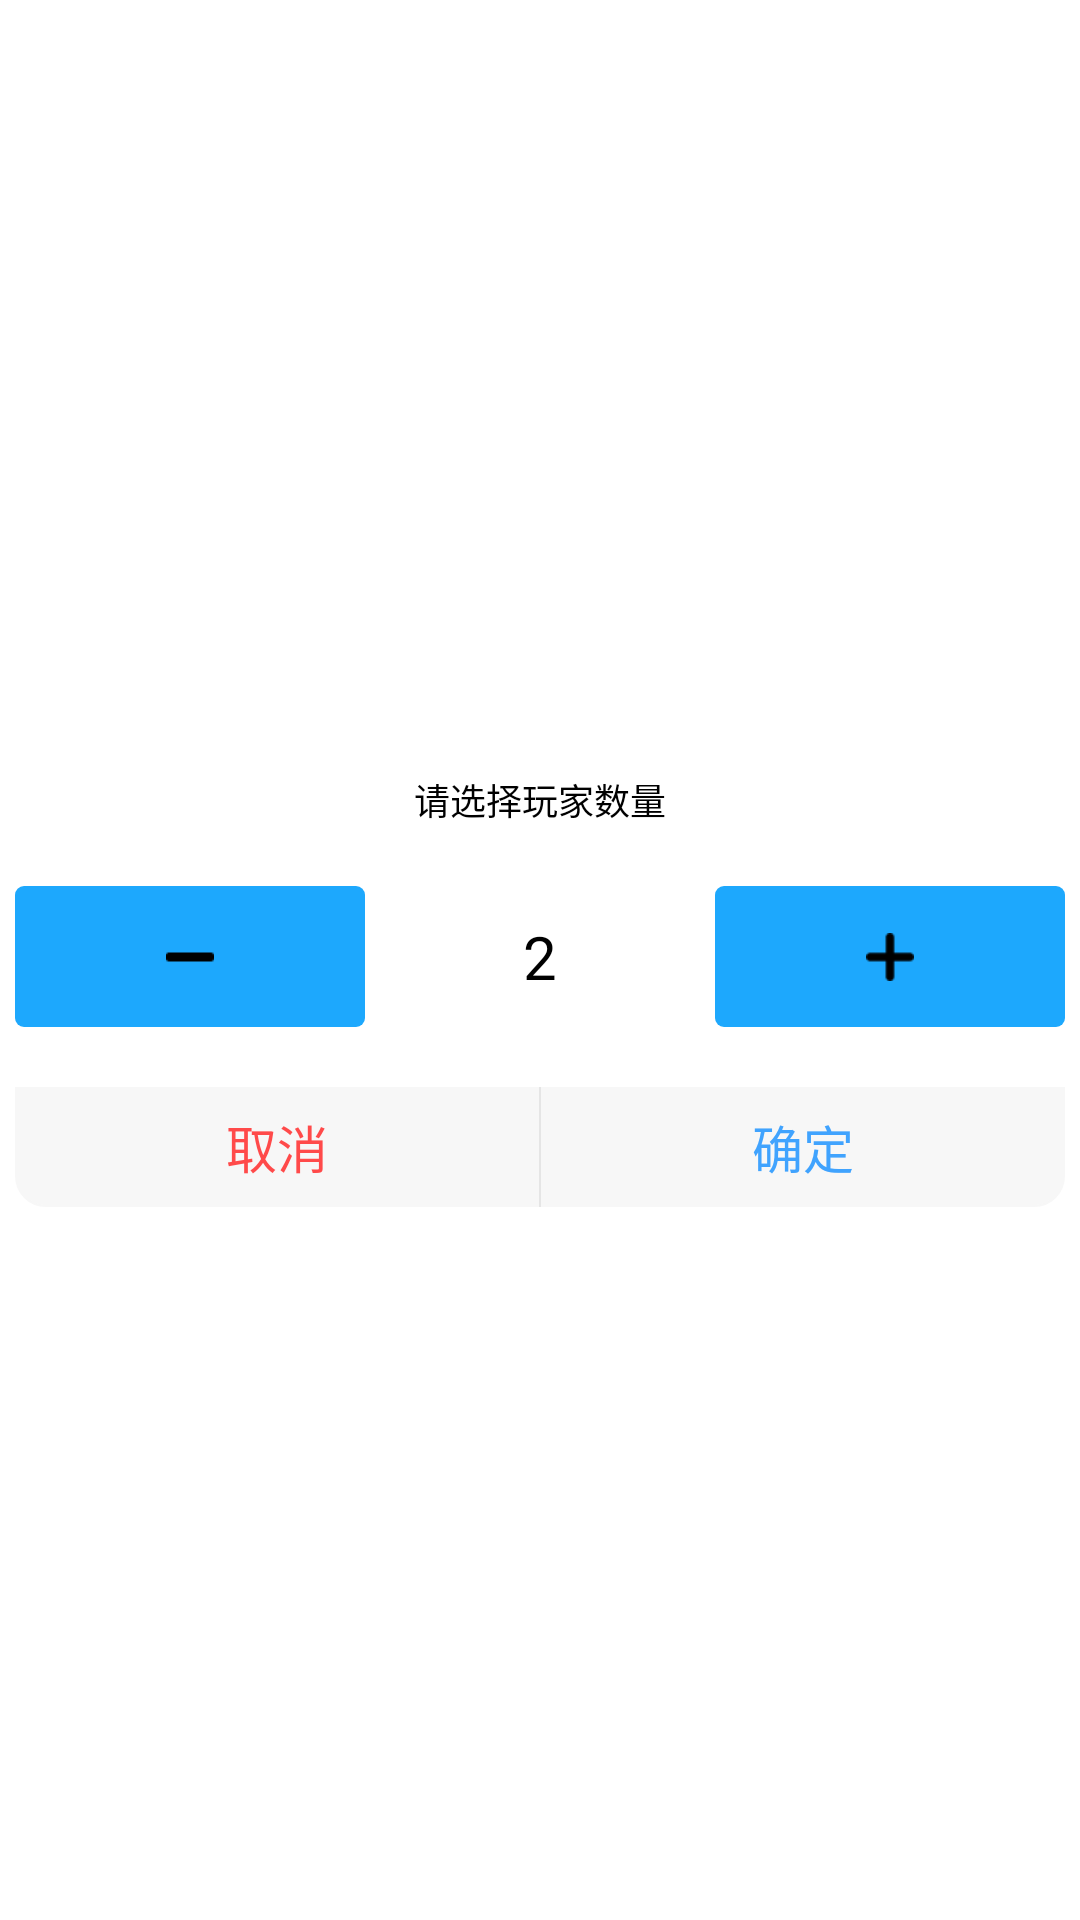

Screen size 1080px x 1920px. Icon name, then its box in pixels as (x1, y1, x2, y2):
num add: (715, 886, 1065, 1027)
num cut: (15, 886, 365, 1027)
